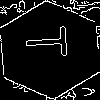T: (25, 25, 78, 58)
